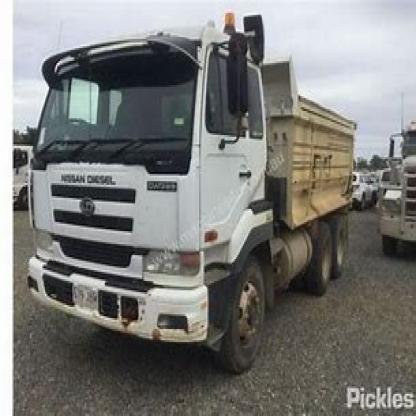dump_truck: (26, 24, 364, 375)
